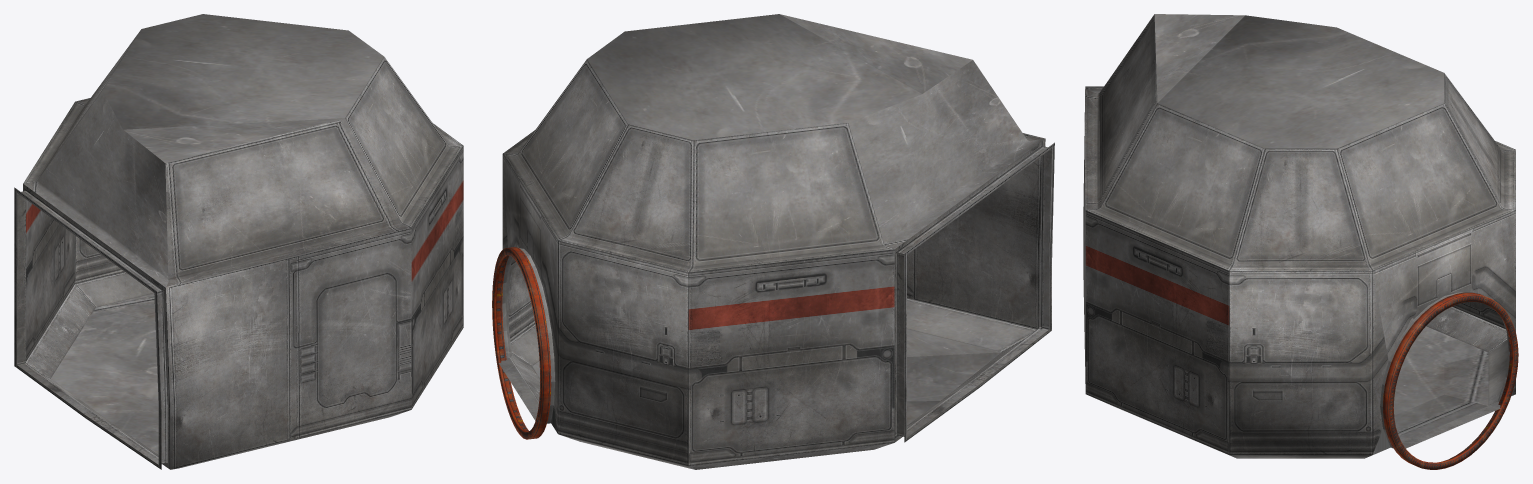
The model's file is tau_8sided_room_1door_reactorcontrol.dae.
3 views of the same model, side by side, from view 1: azimuth 30°, elevation 25°; view 2: azimuth 150°, elevation 25°; view 3: azimuth 270°, elevation 25° (orthographic). The views are drawn at different scales.
Parts seen in each view (by area): view 1: polySurface380; view 2: polySurface380, pPipe68, polySurface375; view 3: polySurface380, pPipe68, polySurface375.
Part boxes in pixels (x1,y1,x2,y2): polySurface380: (14, 14, 463, 469); polySurface380: (502, 14, 1054, 469); pPipe68: (492, 247, 551, 439); polySurface375: (499, 247, 555, 423); polySurface380: (1083, 14, 1515, 458); pPipe68: (1382, 292, 1518, 469); polySurface375: (1380, 292, 1509, 448).
Size of the model in its own units: 8.74 by 6.81 by 8.58.
